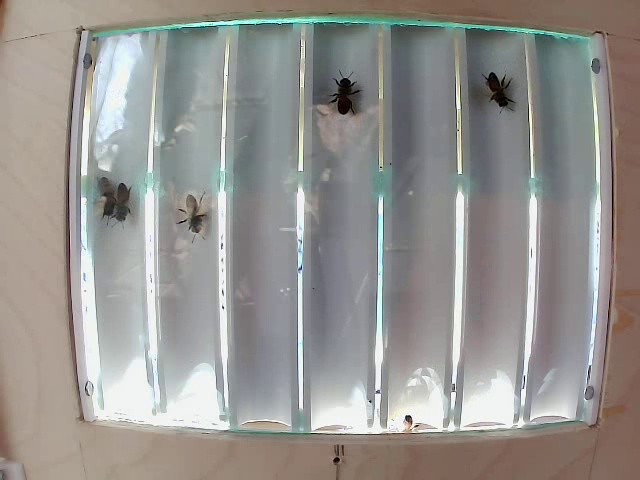bee: (462, 60, 519, 114), (167, 182, 221, 234), (317, 72, 376, 111), (95, 177, 131, 224)
